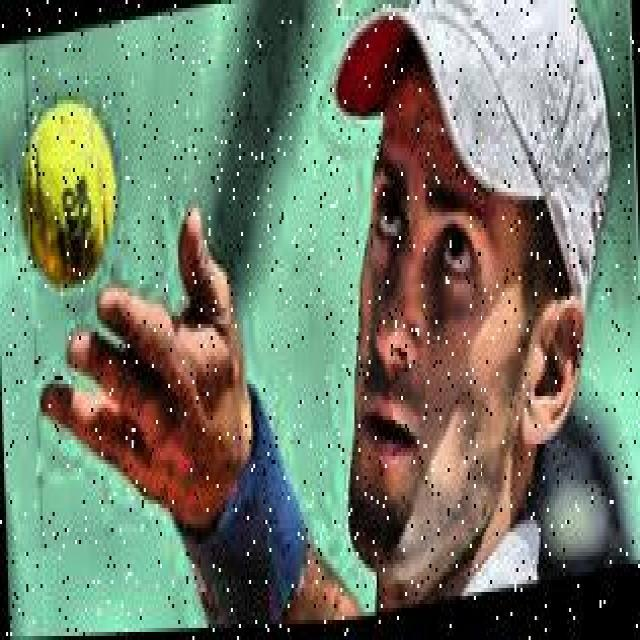tennis-ball: (15, 82, 123, 294)
